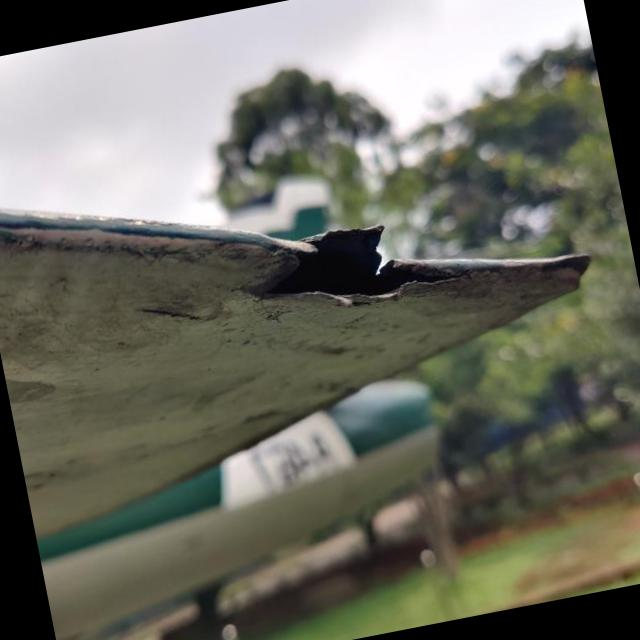Crack: (266, 228, 497, 296)
